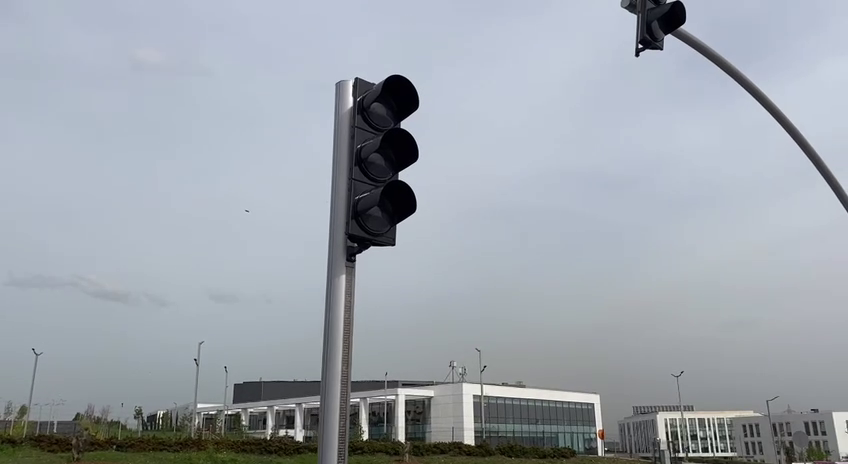trafficLight: (333, 71, 423, 258), (629, 1, 690, 59)
